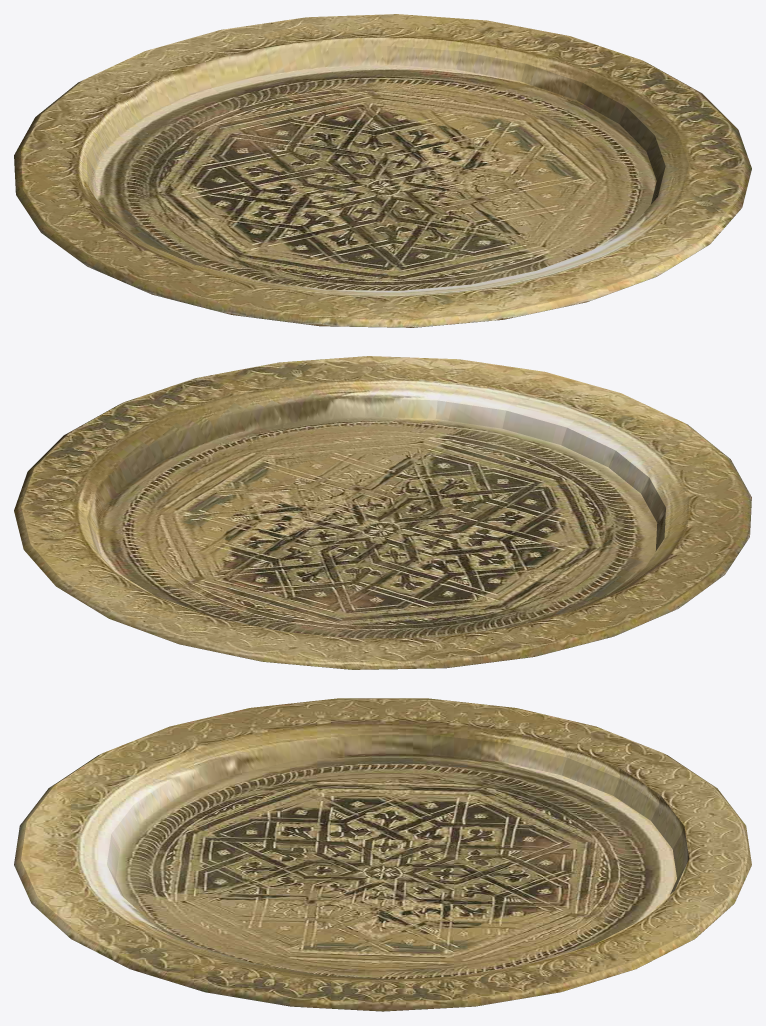
Rendered from Tray.fbx.
The picture shows the model from 3 angles, top to bottom: view 1: azimuth 30°, elevation 25°; view 2: azimuth 150°, elevation 25°; view 3: azimuth 270°, elevation 25°; orthographic projection.
Parts seen in each view (by area): view 1: Tray; view 2: Tray; view 3: Tray.
Part boxes in pixels (x1=…): Tray: x1=14, y1=14, x2=751, y2=327; Tray: x1=14, y1=356, x2=751, y2=669; Tray: x1=14, y1=698, x2=751, y2=1011.
Size of the model in its own units: 37.5 by 1.41 by 37.57.
1 material, 1 textured.
